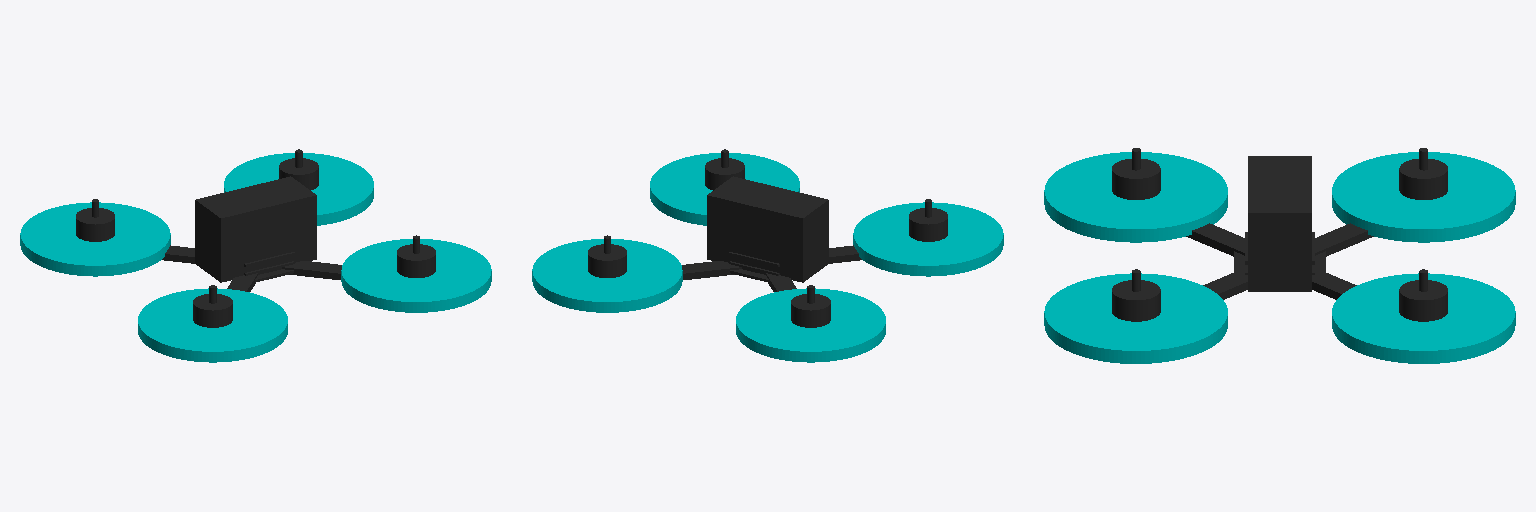
The robot description file, URDF, robot "test_drone":
<?xml version="1.0"?>
<robot name="test_drone">

  <!-- BASE LINK -->
  <link name="base_link">
    <inertial>
      <origin rpy="0 0 0" xyz="0 0 0"/>
      <mass value="0.5"/>
      <inertia ixx="0.001618" ixy="0" ixz="0" iyy="0.001618" iyz="0" izz="0.003015"/>
    </inertial>
    <visual>
      <origin rpy="0 0 0" xyz="0 0 0"/>
      <geometry>
        <mesh filename="base.stl"/>
      </geometry>
      <material name="grey">
        <color rgba="0.2 0.2 0.2 1.0"/>
      </material>
    </visual>
    <collision>
      <origin rpy="0 0 0" xyz="0 0 0"/>
      <geometry>
        <mesh filename="base.stl"/>
      </geometry>
    </collision>
  </link>


  <!-- PROP_FL -->
  <link name="prop_fl">
    <inertial>
      <origin rpy="0 0 0" xyz="0 0 0"/>
      <mass value="0.005"/>
      <inertia ixx="0.000007" ixy="0" ixz="0" iyy="0.000007" iyz="0" izz="0.000013"/>
    </inertial>
    <visual>
      <origin rpy="0 0 0" xyz="0 0 0"/>
      <geometry>
        <mesh filename="prop.stl"/>
      </geometry>
      <material name="cyan">
        <color rgba="0 0.8 0.8 1.0"/>
      </material>
    </visual>
    <collision>
      <origin rpy="0 0 0" xyz="0 0 0"/>
      <geometry>
        <cylinder length="0.01" radius="0.0635"/>
      </geometry>
    </collision>
  </link>

  <joint name="joint_prop_fl" type="continuous">
    <parent link="base_link"/>
    <child link="prop_fl"/>
    <origin rpy="0 0 0" xyz="79.54951275 79.54951275 0.03"/> <!-- Convert mm to m -->
    <axis xyz="0 0 1"/>
  </joint>

  <!-- PROP_FR -->
  <link name="prop_fr">
    <inertial>
      <origin rpy="0 0 0" xyz="0 0 0"/>
      <mass value="0.005"/>
      <inertia ixx="0.000007" ixy="0" ixz="0" iyy="0.000007" iyz="0" izz="0.000013"/>
    </inertial>
    <visual>
      <origin rpy="0 0 0" xyz="0 0 0"/>
      <geometry>
        <mesh filename="prop.stl"/>
      </geometry>
      <material name="cyan">
        <color rgba="0 0.8 0.8 1.0"/>
      </material>
    </visual>
    <collision>
      <origin rpy="0 0 0" xyz="0 0 0"/>
      <geometry>
        <cylinder length="0.01" radius="0.0635"/>
      </geometry>
    </collision>
  </link>

  <joint name="joint_prop_fr" type="continuous">
    <parent link="base_link"/>
    <child link="prop_fr"/>
    <origin rpy="0 0 0" xyz="79.54951275 -79.54951275 0.03"/> <!-- Convert mm to m -->
    <axis xyz="0 0 1"/>
  </joint>

  <!-- PROP_RL -->
  <link name="prop_rl">
    <inertial>
      <origin rpy="0 0 0" xyz="0 0 0"/>
      <mass value="0.005"/>
      <inertia ixx="0.000007" ixy="0" ixz="0" iyy="0.000007" iyz="0" izz="0.000013"/>
    </inertial>
    <visual>
      <origin rpy="0 0 0" xyz="0 0 0"/>
      <geometry>
        <mesh filename="prop.stl"/>
      </geometry>
      <material name="cyan">
        <color rgba="0 0.8 0.8 1.0"/>
      </material>
    </visual>
    <collision>
      <origin rpy="0 0 0" xyz="0 0 0"/>
      <geometry>
        <cylinder length="0.01" radius="0.0635"/>
      </geometry>
    </collision>
  </link>

  <joint name="joint_prop_rl" type="continuous">
    <parent link="base_link"/>
    <child link="prop_rl"/>
    <origin rpy="0 0 0" xyz="-79.54951275 79.54951275 0.03"/> <!-- Convert mm to m -->
    <axis xyz="0 0 1"/>
  </joint>

  <!-- PROP_RR -->
  <link name="prop_rr">
    <inertial>
      <origin rpy="0 0 0" xyz="0 0 0"/>
      <mass value="0.005"/>
      <inertia ixx="0.000007" ixy="0" ixz="0" iyy="0.000007" iyz="0" izz="0.000013"/>
    </inertial>
    <visual>
      <origin rpy="0 0 0" xyz="0 0 0"/>
      <geometry>
        <mesh filename="prop.stl"/>
      </geometry>
      <material name="cyan">
        <color rgba="0 0.8 0.8 1.0"/>
      </material>
    </visual>
    <collision>
      <origin rpy="0 0 0" xyz="0 0 0"/>
      <geometry>
        <cylinder length="0.01" radius="0.0635"/>
      </geometry>
    </collision>
  </link>

  <joint name="joint_prop_rr" type="continuous">
    <parent link="base_link"/>
    <child link="prop_rr"/>
    <origin rpy="0 0 0" xyz="-79.54951275 -79.54951275 0.03"/> <!-- Convert mm to m -->
    <axis xyz="0 0 1"/>
  </joint>
</robot>

--- What the picture shows (computed from the rendered views, not written in the file) ---
3 views of the same robot in one strip: view 1: azimuth 30°, elevation 25°; view 2: azimuth 150°, elevation 25°; view 3: azimuth 270°, elevation 25° (orthographic).
Robot: test_drone — 5 links, 4 joints (4 continuous); root link base_link; default pose: every joint at zero.
Links seen in each view (by area): view 1: base_link, prop_fr, prop_rl, prop_rr, prop_fl; view 2: base_link, prop_fl, prop_rr, prop_rl, prop_fr; view 3: base_link, prop_fl, prop_fr, prop_rl, prop_rr.
Boxes of the visible links, bbox=[...] form: base_link: bbox=[76, 149, 435, 327]; prop_fr: bbox=[341, 239, 491, 312]; prop_rl: bbox=[20, 202, 170, 276]; prop_rr: bbox=[138, 288, 287, 362]; prop_fl: bbox=[224, 153, 373, 225]; base_link: bbox=[588, 149, 947, 327]; prop_fl: bbox=[532, 239, 682, 312]; prop_rr: bbox=[853, 202, 1003, 276]; prop_rl: bbox=[736, 288, 885, 362]; prop_fr: bbox=[650, 153, 799, 225]; base_link: bbox=[1112, 148, 1447, 321]; prop_fl: bbox=[1332, 273, 1515, 363]; prop_fr: bbox=[1044, 273, 1227, 363]; prop_rl: bbox=[1332, 152, 1515, 242]; prop_rr: bbox=[1044, 152, 1227, 242].
Bounding box of the posed robot: 261 × 261 × 51.5 m (x, y, z).
5 mesh visuals loaded from 2 distinct referenced files (2 binary STL).